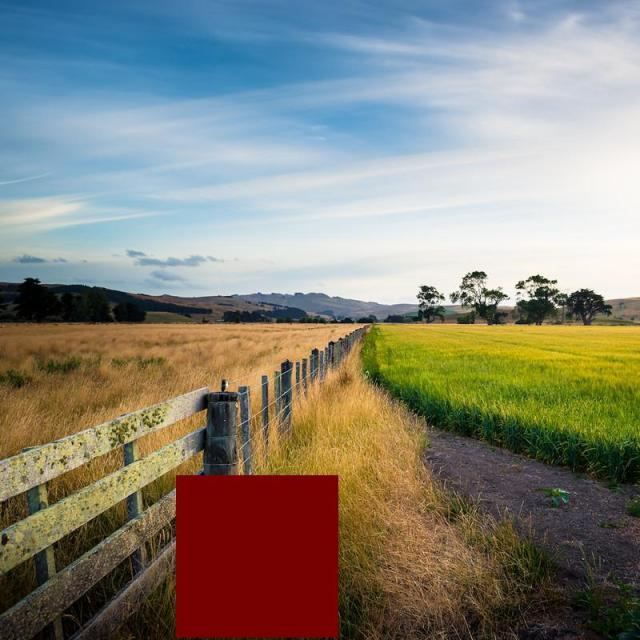RedSquare: (167, 467, 343, 640)
